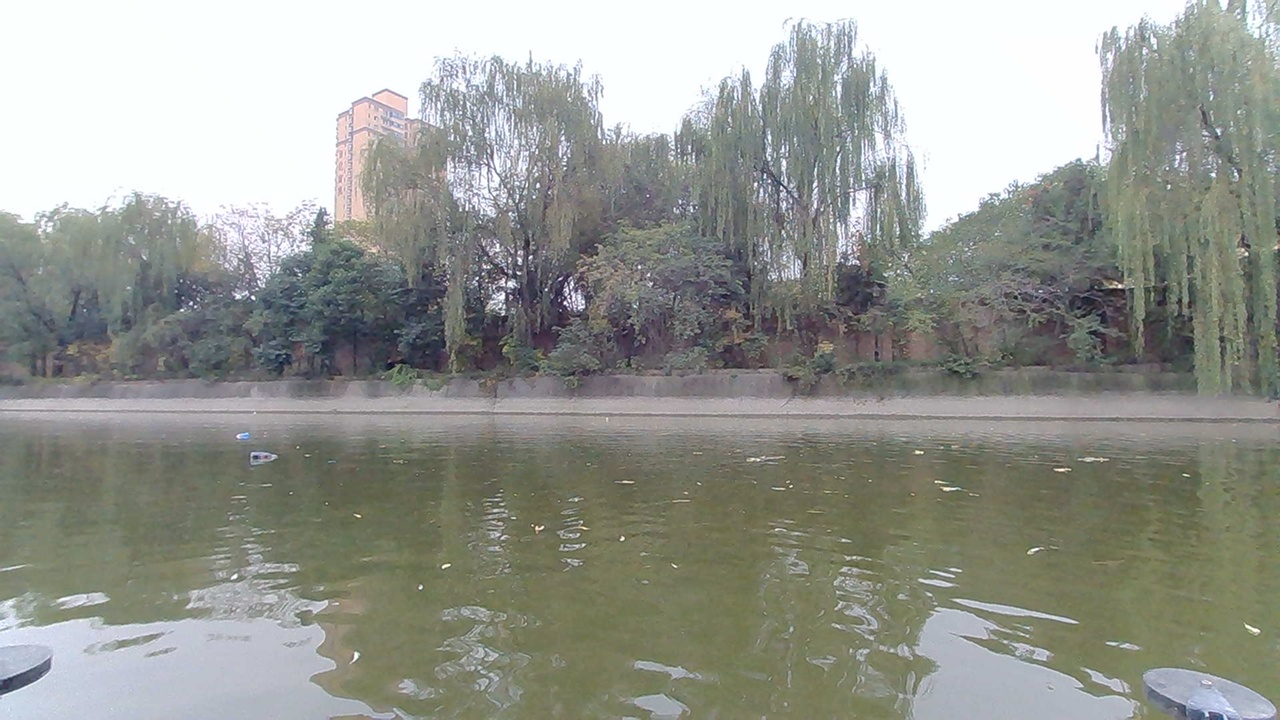bottle: (242, 441, 286, 469), (232, 424, 265, 448)
